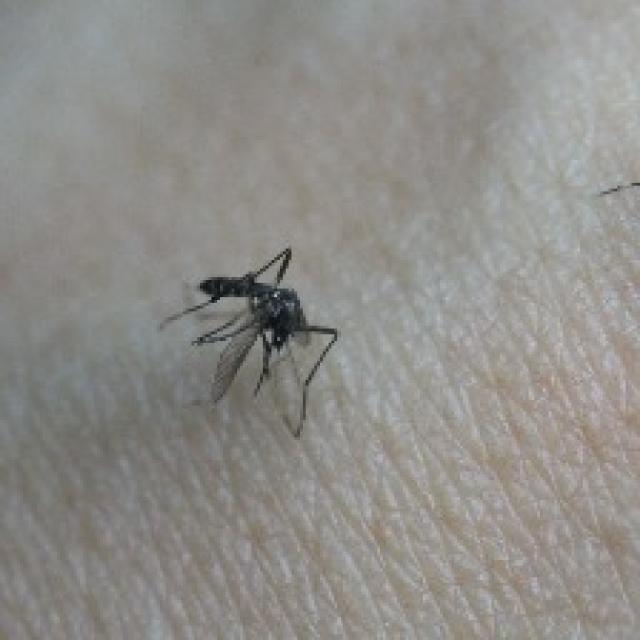aedes: (157, 243, 337, 437)
